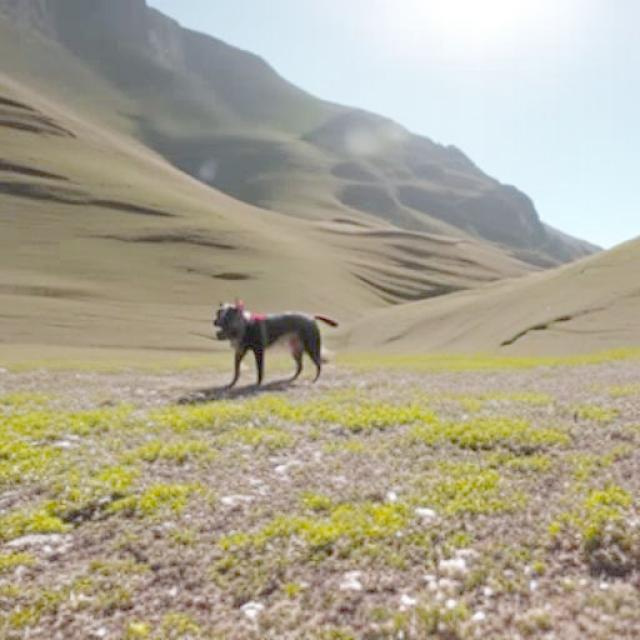Dog: (213, 299, 338, 389)
